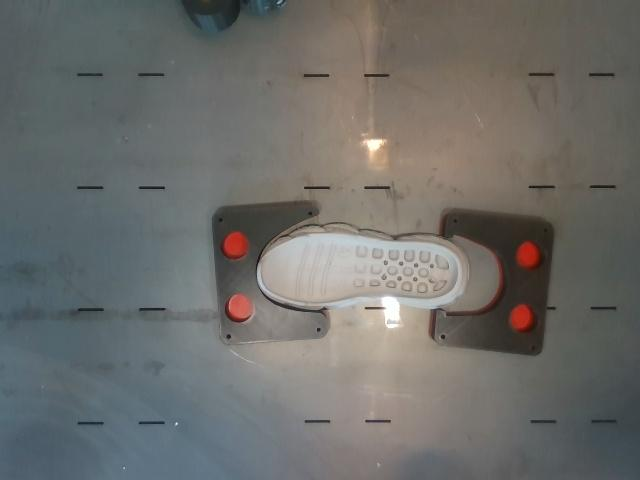shoes: (260, 234, 458, 304)
